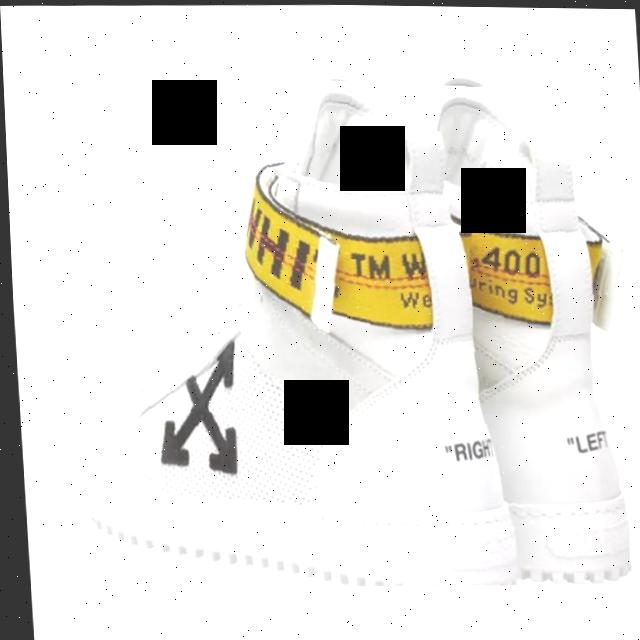shoe: (24, 57, 640, 593)
